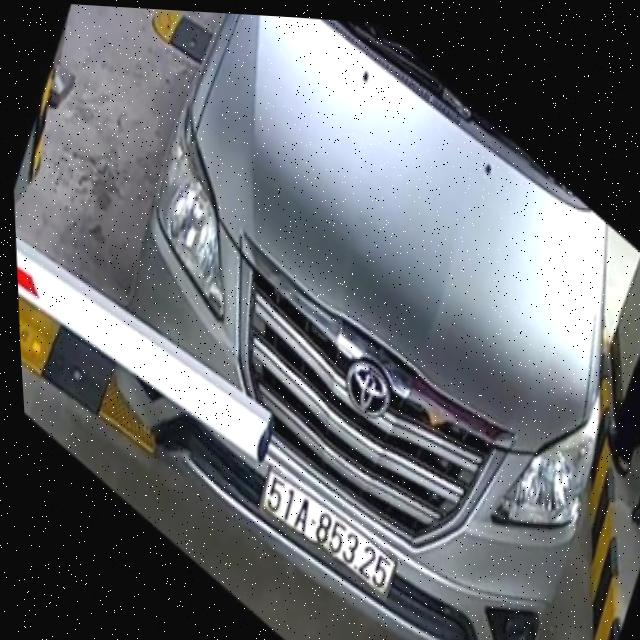car: (96, 6, 640, 640)
plate: (250, 464, 402, 604)
